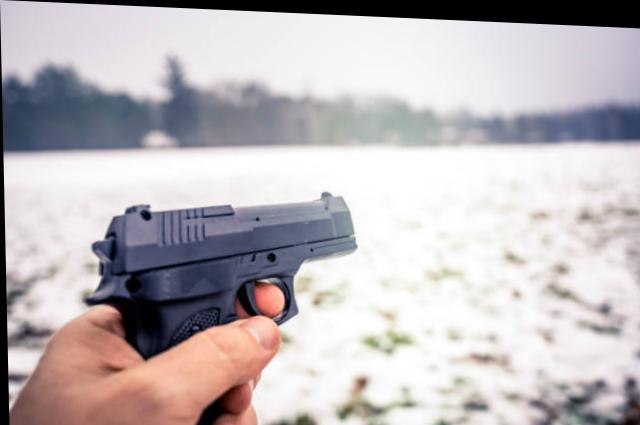other: (3, 177, 355, 424)
